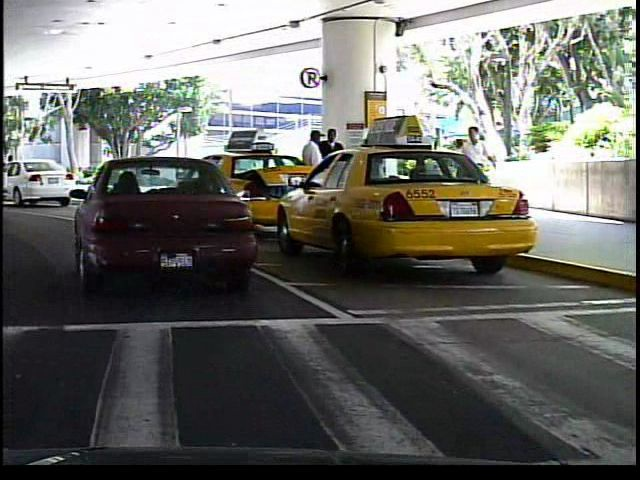person: (456, 120, 496, 221), (297, 126, 326, 217), (446, 131, 477, 207), (319, 126, 346, 212)
